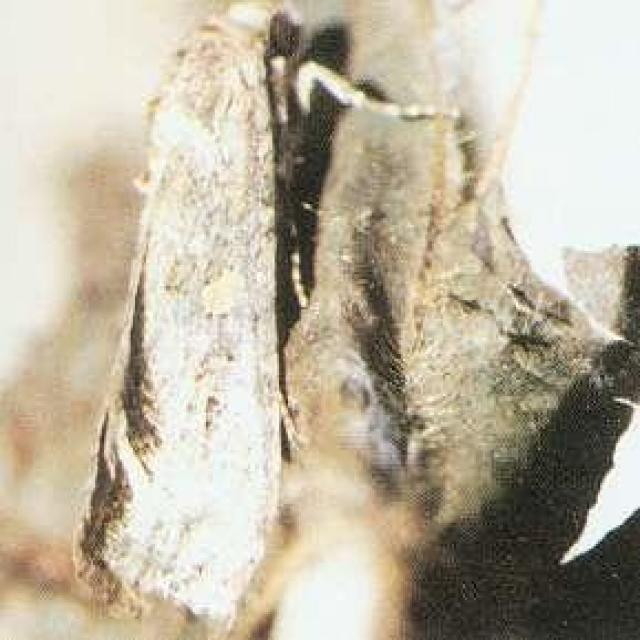BeetArmyWorm-Adult-: (66, 2, 336, 620)
